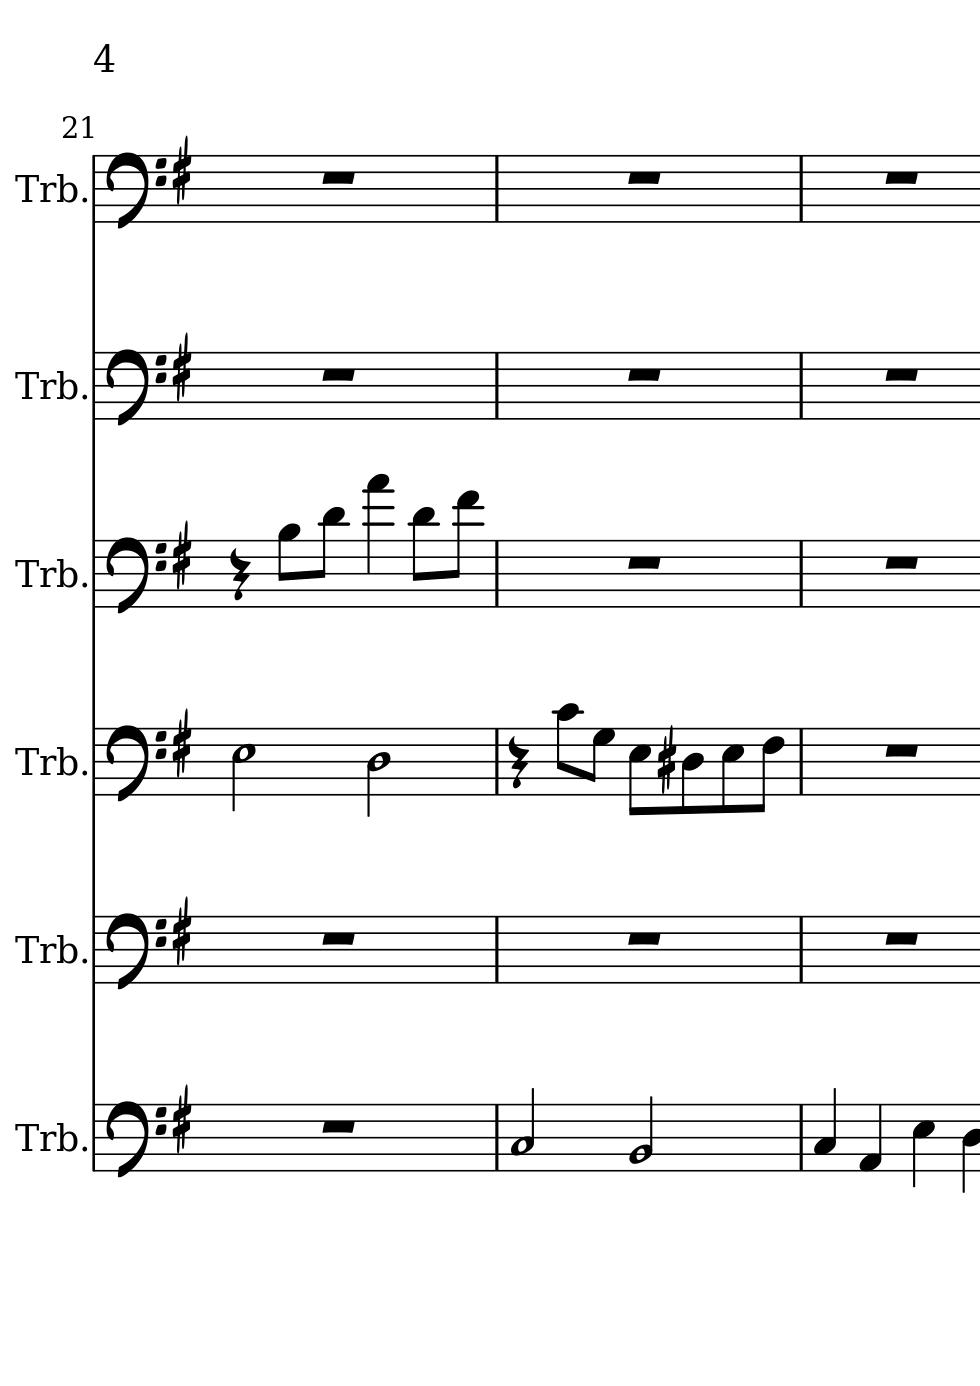1: (80, 115, 95, 144)
2: (60, 115, 78, 143)
2_2: (626, 1094, 654, 1173)
2_3: (509, 1088, 535, 1172)
2_4: (365, 725, 393, 818)
2_5: (229, 726, 257, 813)
4: (93, 41, 115, 73)
4_1: (857, 1102, 883, 1174)
4_15: (361, 474, 393, 609)
4_3: (812, 1087, 837, 1172)
4_5: (910, 1102, 934, 1190)
8_10: (553, 702, 580, 797)
8_11: (313, 504, 346, 609), (408, 504, 436, 609)
8_13: (448, 489, 482, 609)
8_4: (679, 727, 704, 815)
8_5: (626, 726, 651, 818), (718, 726, 743, 815)
8_6: (752, 726, 785, 814)
8_7: (587, 726, 614, 796)
8_9: (275, 522, 300, 609)
Fclef: (104, 1096, 167, 1181), (104, 346, 167, 428), (104, 150, 167, 231), (105, 534, 167, 617), (105, 909, 167, 992), (104, 722, 167, 803)
Rests1: (317, 166, 358, 187), (880, 166, 922, 187), (880, 364, 922, 384), (880, 551, 922, 572), (880, 740, 922, 760), (317, 927, 358, 947), (317, 1115, 358, 1135), (317, 364, 358, 383), (623, 364, 664, 383), (623, 928, 664, 947), (880, 928, 922, 947), (624, 166, 664, 186), (624, 551, 664, 571)
Rests4: (226, 545, 251, 604), (506, 735, 529, 791)
Sharp: (169, 136, 193, 206), (170, 520, 193, 591), (170, 896, 193, 967), (170, 1084, 193, 1155), (170, 709, 193, 779), (170, 332, 192, 403), (655, 726, 677, 795)
Single_barline: (792, 353, 809, 419), (792, 917, 809, 983), (793, 729, 809, 795), (488, 156, 504, 222), (793, 156, 809, 222), (488, 353, 504, 419), (793, 541, 809, 607), (488, 917, 504, 983), (793, 1105, 809, 1171), (489, 1106, 505, 1171), (87, 353, 102, 420), (489, 729, 504, 795), (87, 916, 102, 983), (87, 541, 102, 607), (489, 541, 504, 607), (87, 155, 101, 223), (87, 729, 101, 796), (87, 1104, 101, 1172)
Trb: (12, 923, 78, 972), (12, 549, 78, 595), (12, 1113, 77, 1159), (12, 738, 78, 783), (11, 362, 78, 405), (12, 168, 77, 210)
